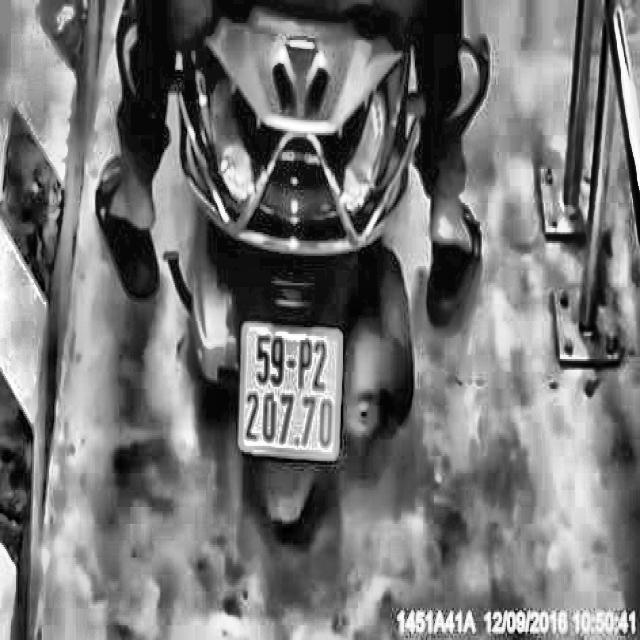plate: (234, 314, 346, 466)
